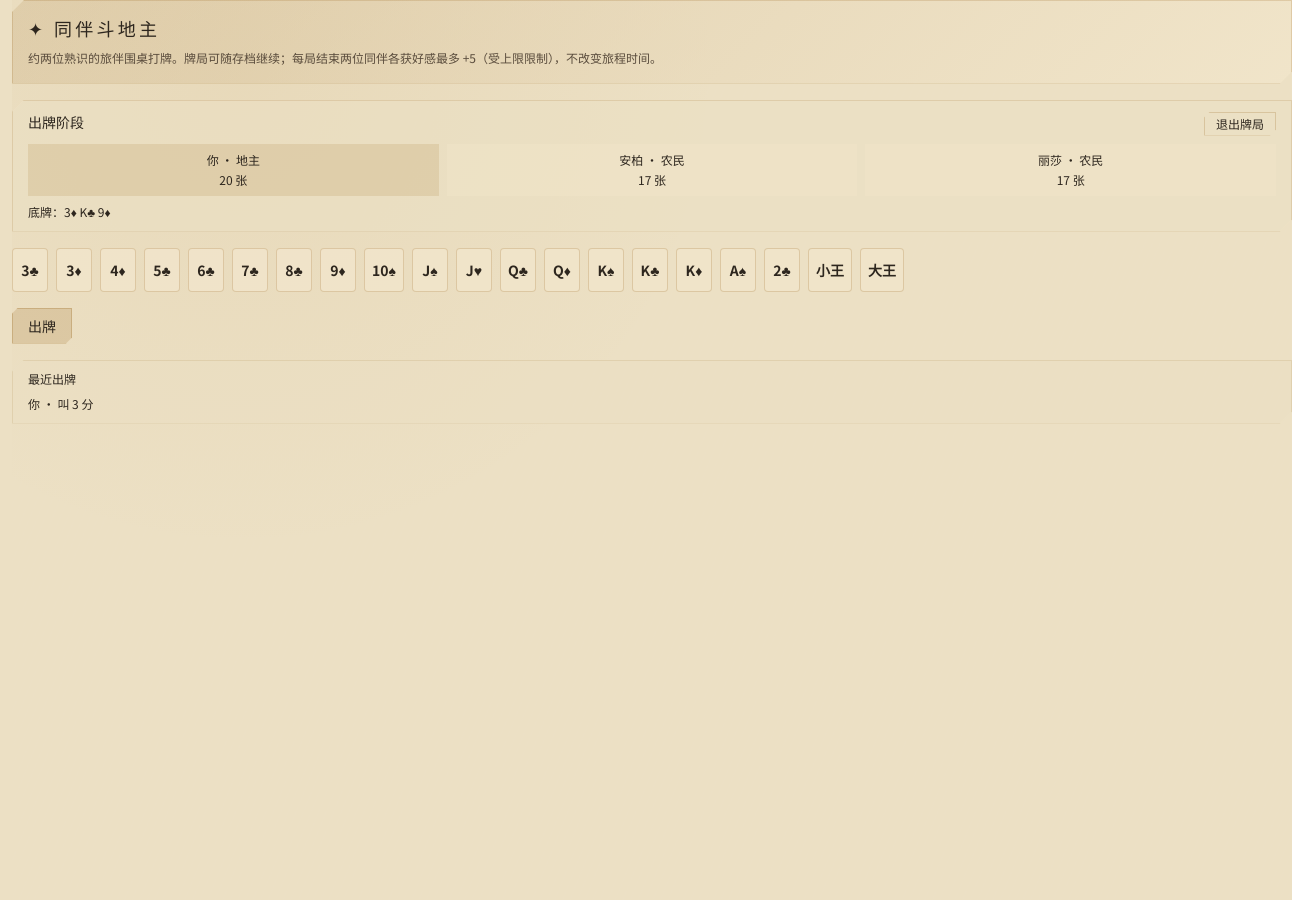
Test: Dou Dizhu panel › selects hand cards, explains invalid play, and shows recent public moves
Click the button "出牌": (42, 326) [12, 308, 72, 344]
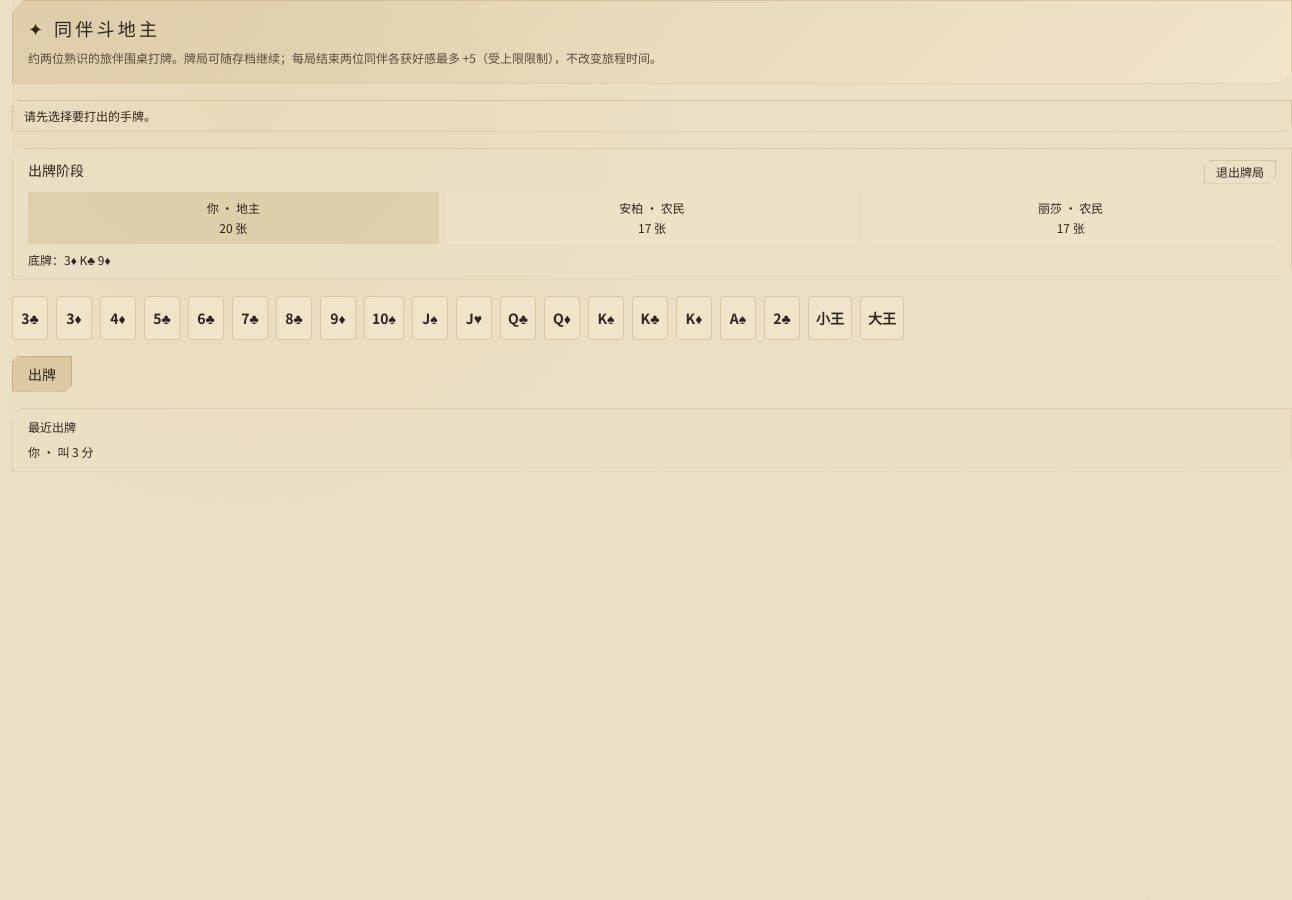
Expected: the text "选择" is shown, [12, 100, 1291, 132]
Click the button "3♣": (30, 318) [12, 296, 48, 340]
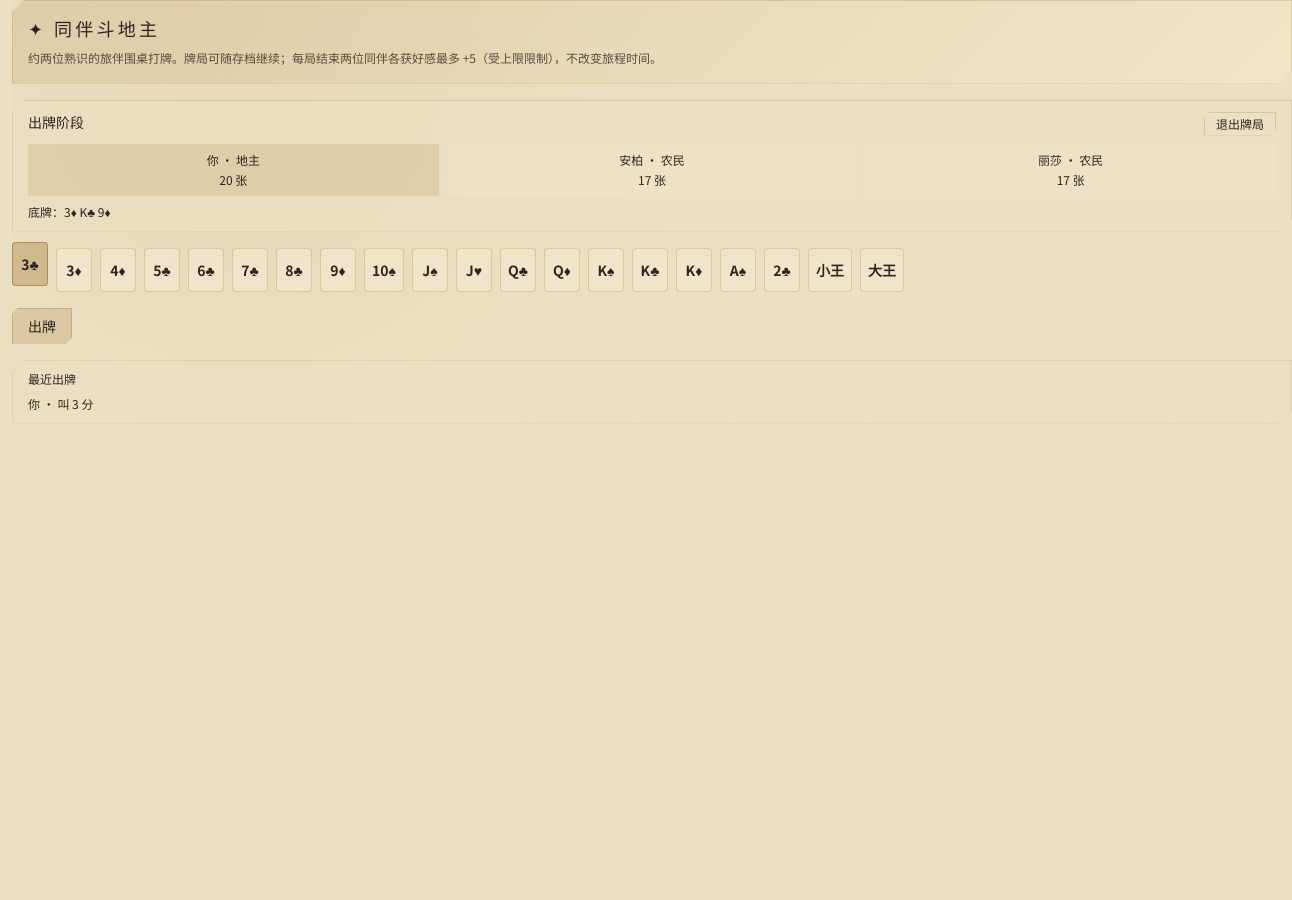
Expected: the button "3♣" is pressed, [12, 242, 48, 286]
Click the button "出牌": (42, 326) [12, 308, 72, 344]
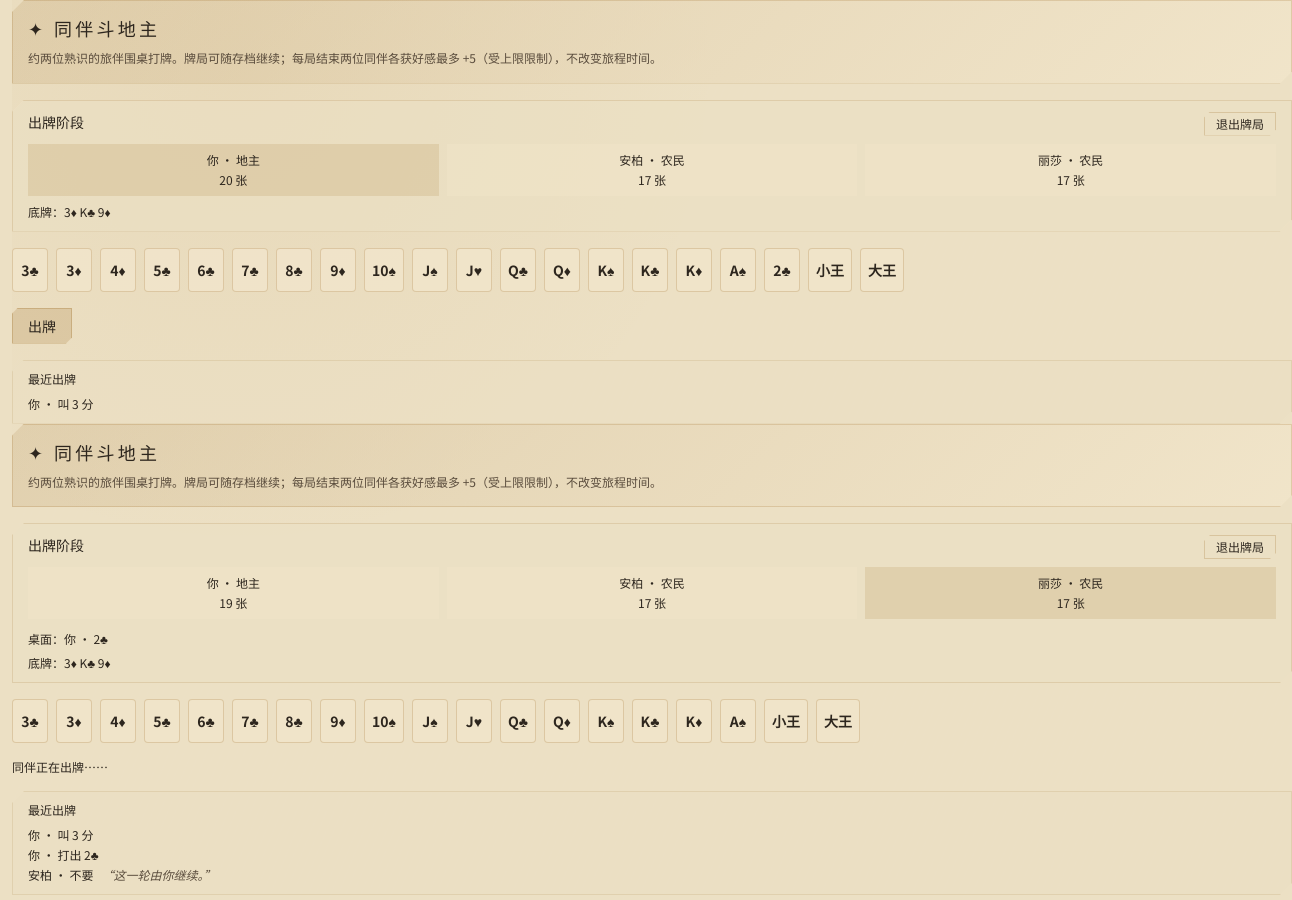
Expected: the text "最近出牌" is shown, [28, 372, 76, 386]
Expected: the text "不要" is shown, [69, 866, 93, 883]
Expected: the text "“这一轮由你继续。”" is shown, [101, 866, 215, 883]
